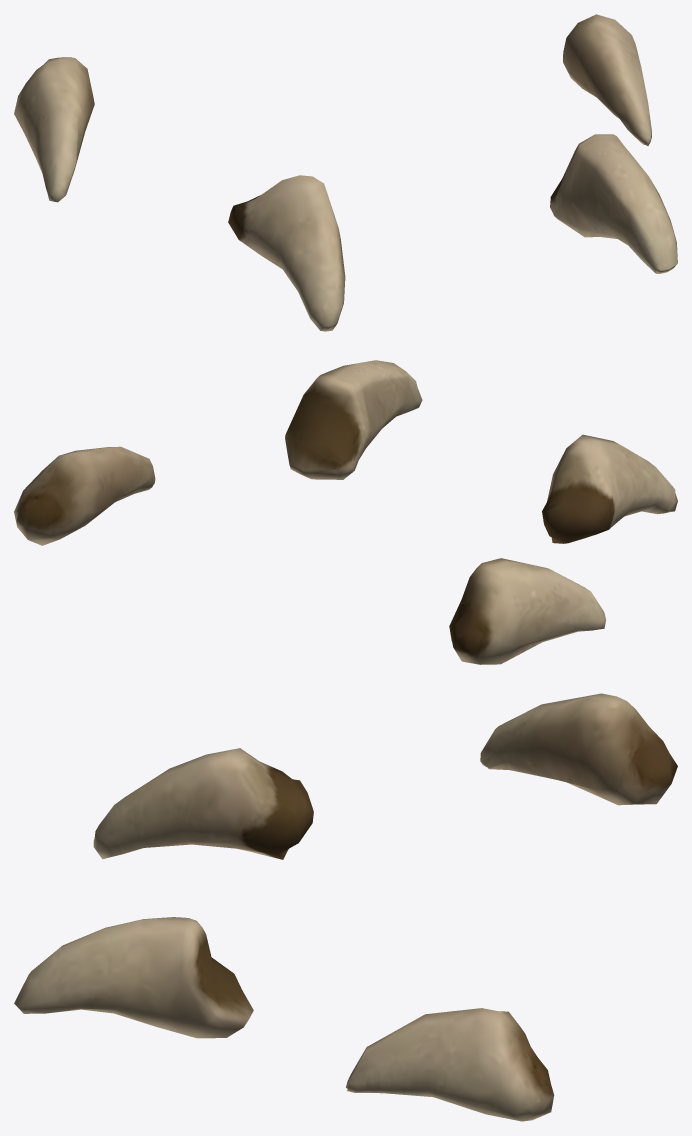
File: Distal_Phalanges.glb
3 views of the same model, one above another, from view 1: azimuth 30°, elevation 25°; view 2: azimuth 150°, elevation 25°; view 3: azimuth 270°, elevation 25° (orthographic). The views are drawn at different scales.
Parts seen in each view (by area): view 1: polySurface25, polySurface24, polySurface26, polySurface23; view 2: polySurface26, polySurface24, polySurface25, polySurface23; view 3: polySurface24, polySurface25, polySurface23, polySurface26.
Part boxes in pixels (x1=…): polySurface25: x1=228, y1=175, x2=345, y2=331; polySurface24: x1=550, y1=134, x2=677, y2=273; polySurface26: x1=14, y1=57, x2=94, y2=202; polySurface23: x1=563, y1=14, x2=651, y2=145; polySurface26: x1=449, y1=558, x2=605, y2=664; polySurface24: x1=285, y1=360, x2=422, y2=479; polySurface25: x1=542, y1=434, x2=677, y2=543; polySurface23: x1=14, y1=446, x2=155, y2=545; polySurface24: x1=14, y1=917, x2=253, y2=1038; polySurface25: x1=93, y1=748, x2=313, y2=859; polySurface23: x1=346, y1=1008, x2=554, y2=1121; polySurface26: x1=480, y1=693, x2=677, y2=805.
Size of the model in its own units: 42.4 by 8.63 by 36.12.
1 material, 1 textured.
